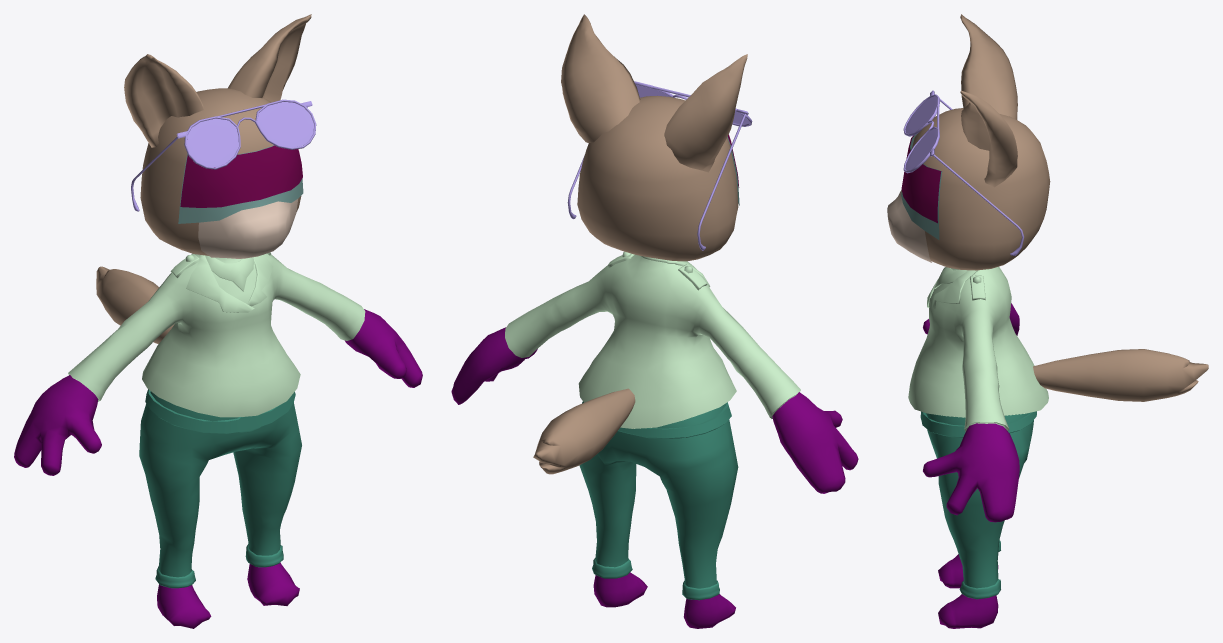
File: CHARA_YANNECK_MODEL.fbx
3 views of the same model, side by side, from view 1: azimuth 30°, elevation 25°; view 2: azimuth 150°, elevation 25°; view 3: azimuth 270°, elevation 25° (orthographic). The views are drawn at different scales.
Parts seen in each view (by area): view 1: CHARA_YANNECK_TOP_MODEL, CHARA_YANNECK_BOTTOM_MODEL, CHARA_YANNECK_HEAD_MODEL, CHARA_YANNECK_TALLBODY_MODEL, CHARA_YANNECK_EXTRAS_MODEL, CHARA_YANNECK_EYEBROWS_MODEL, CHARA_YANNCEK_MOUTH_MODEL, CHARA_YANNECK_EYES_MODEL; view 2: CHARA_YANNECK_HEAD_MODEL, CHARA_YANNECK_TOP_MODEL, CHARA_YANNECK_BOTTOM_MODEL, CHARA_YANNECK_TALLBODY_MODEL, CHARA_YANNECK_EXTRAS_MODEL; view 3: CHARA_YANNECK_HEAD_MODEL, CHARA_YANNECK_TOP_MODEL, CHARA_YANNECK_TALLBODY_MODEL, CHARA_YANNECK_BOTTOM_MODEL, CHARA_YANNECK_EXTRAS_MODEL, CHARA_YANNECK_EYEBROWS_MODEL, CHARA_YANNCEK_MOUTH_MODEL, CHARA_YANNECK_EYES_MODEL.
Part boxes in pixels (x1=…): CHARA_YANNECK_TOP_MODEL: x1=68, y1=252, x2=365, y2=417; CHARA_YANNECK_BOTTOM_MODEL: x1=139, y1=389, x2=301, y2=588; CHARA_YANNECK_HEAD_MODEL: x1=96, y1=14, x2=311, y2=343; CHARA_YANNECK_TALLBODY_MODEL: x1=14, y1=309, x2=422, y2=628; CHARA_YANNECK_EXTRAS_MODEL: x1=131, y1=99, x2=316, y2=211; CHARA_YANNECK_EYEBROWS_MODEL: x1=180, y1=145, x2=302, y2=207; CHARA_YANNCEK_MOUTH_MODEL: x1=198, y1=199, x2=297, y2=258; CHARA_YANNECK_EYES_MODEL: x1=178, y1=145, x2=303, y2=223; CHARA_YANNECK_HEAD_MODEL: x1=533, y1=14, x2=747, y2=474; CHARA_YANNECK_TOP_MODEL: x1=505, y1=251, x2=800, y2=428; CHARA_YANNECK_BOTTOM_MODEL: x1=579, y1=401, x2=738, y2=600; CHARA_YANNECK_TALLBODY_MODEL: x1=451, y1=327, x2=858, y2=628; CHARA_YANNECK_EXTRAS_MODEL: x1=567, y1=81, x2=752, y2=250; CHARA_YANNECK_HEAD_MODEL: x1=912, y1=14, x2=1208, y2=401; CHARA_YANNECK_TOP_MODEL: x1=908, y1=266, x2=1048, y2=431; CHARA_YANNECK_TALLBODY_MODEL: x1=923, y1=303, x2=1019, y2=628; CHARA_YANNECK_BOTTOM_MODEL: x1=920, y1=411, x2=1036, y2=599; CHARA_YANNECK_EXTRAS_MODEL: x1=903, y1=90, x2=1024, y2=255; CHARA_YANNECK_EYEBROWS_MODEL: x1=901, y1=135, x2=941, y2=223; CHARA_YANNCEK_MOUTH_MODEL: x1=887, y1=190, x2=931, y2=262; CHARA_YANNECK_EYES_MODEL: x1=901, y1=133, x2=942, y2=239.
Size of the model in its own units: 133 by 187 by 98.84.
